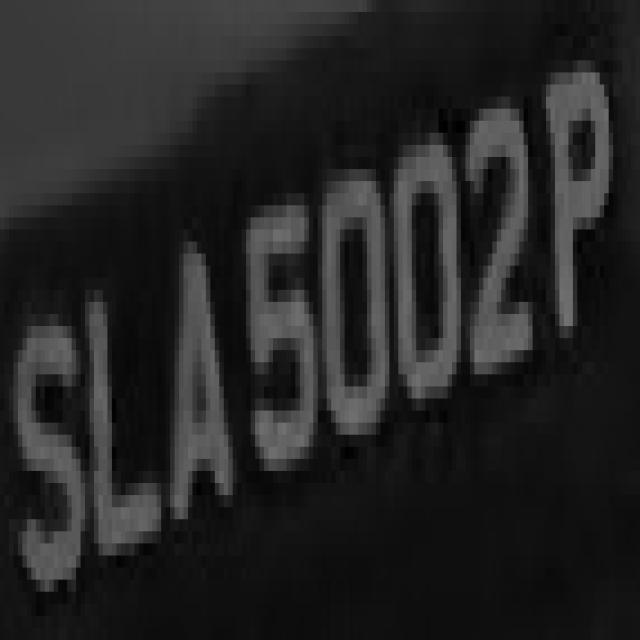0: (304, 121, 394, 483), (385, 109, 474, 471)
2: (466, 60, 542, 423)
5: (237, 121, 313, 531)
A: (152, 181, 242, 507)
L: (76, 230, 161, 556)
P: (533, 12, 622, 399)
S: (14, 290, 80, 628)
